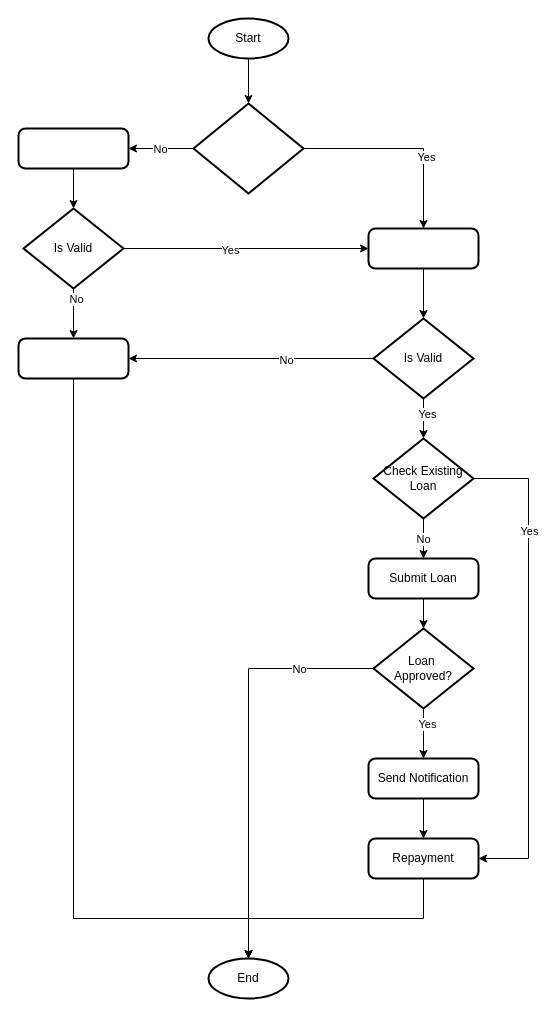
Some shapes in this 555 by 1016 pixel diagram are drawn without their labels. The shapes that lost their labels are listed below. From the top down, each one's centre as x and y in pixels, then its label:
At pixel 73 148: "Register".
At pixel 248 148: "Is Authenticated?".
At pixel 423 248: "Log In".
At pixel 73 358: "Show Error".
